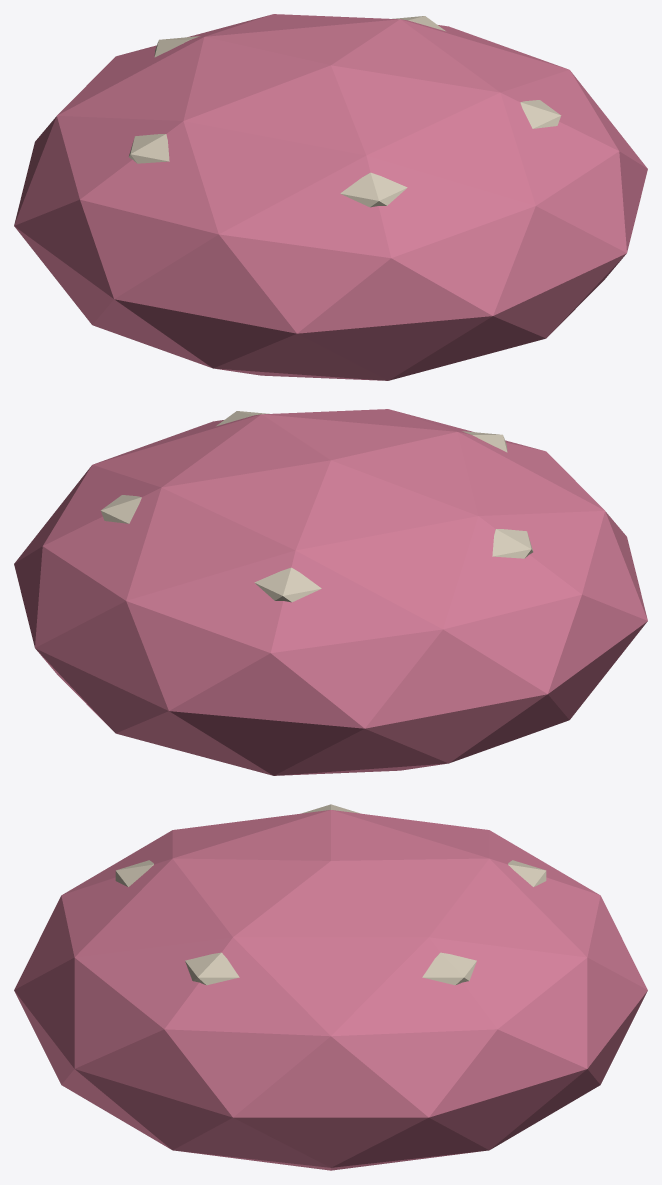
The model's file is goo_jar_hat@mushroom.fbx.
3 renders of one model, top to bottom at view 1: azimuth 30°, elevation 25°; view 2: azimuth 150°, elevation 25°; view 3: azimuth 270°, elevation 25°, orthographic. The views are drawn at different scales.
Parts seen in each view (by area): view 1: goo_jar_hat; view 2: goo_jar_hat; view 3: goo_jar_hat.
Part boxes in pixels (x1,y1,x2,y2): goo_jar_hat: (14,14,647,380); goo_jar_hat: (14,409,647,775); goo_jar_hat: (14,804,647,1170).
Size of the model in its own units: 1.62 by 0.765 by 1.7.
